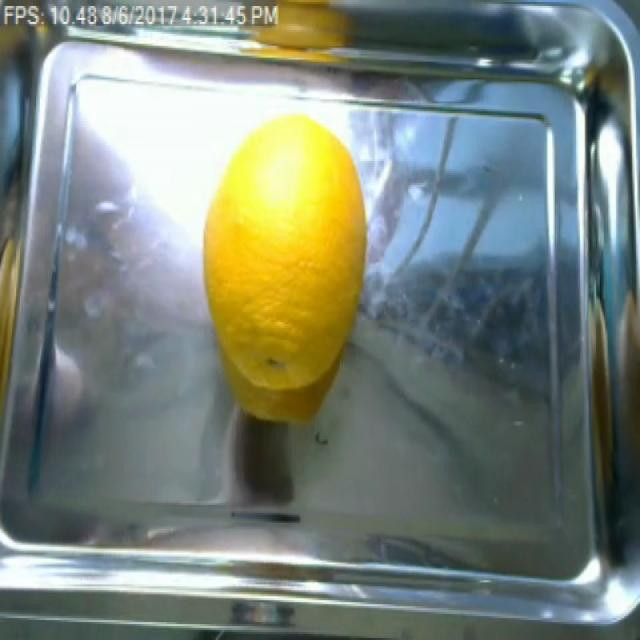Fruit: (192, 110, 372, 432), (233, 0, 364, 60)
